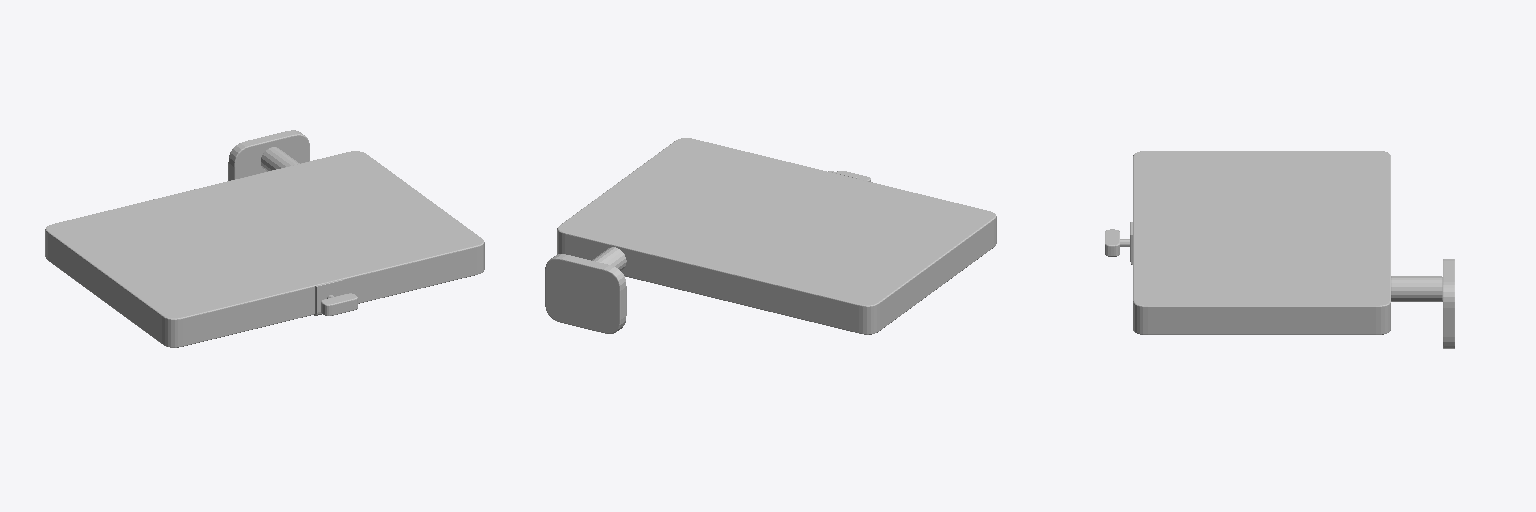
The model's file is monitor.obj.
The picture shows the model from 3 angles: view 1: azimuth 30°, elevation 25°; view 2: azimuth 150°, elevation 25°; view 3: azimuth 270°, elevation 25°; orthographic projection.
Visible parts, largest first — view 1: monitor; view 2: monitor; view 3: monitor.
Part boxes in pixels (bbox=[...]): monitor: bbox=[45, 130, 484, 347]; monitor: bbox=[545, 138, 996, 334]; monitor: bbox=[1105, 151, 1454, 348].
Size of the model in its own units: 285 by 54.86 by 271.